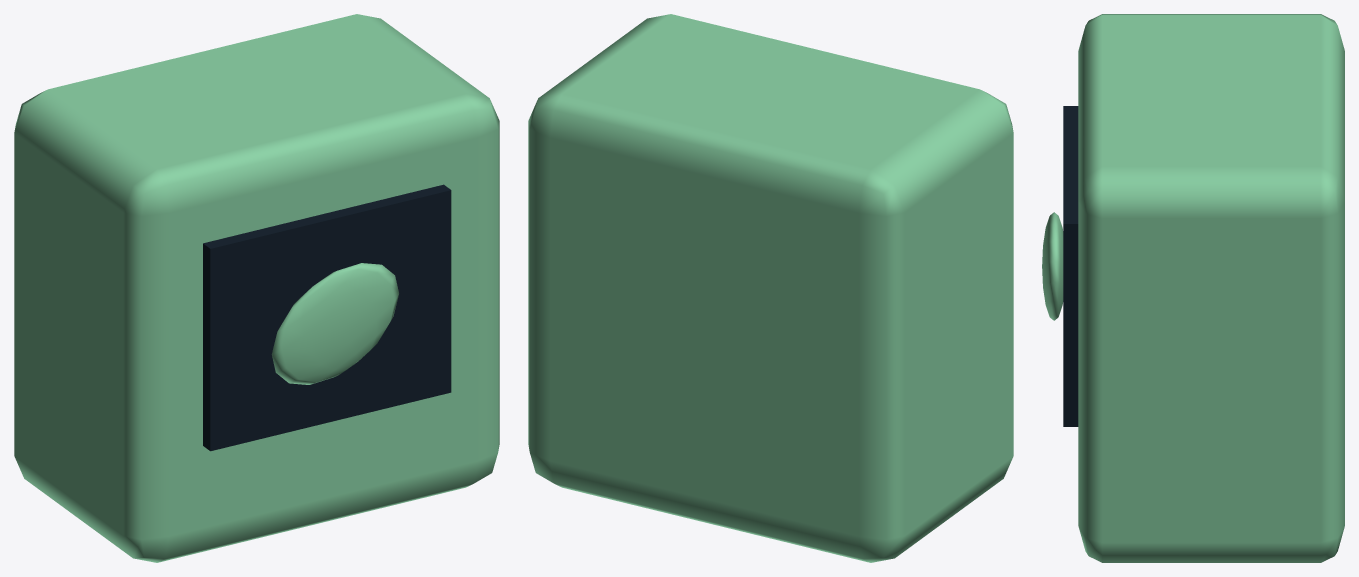
Rendered from item-seeds.glb.
3 views of the same model, side by side, from view 1: azimuth 30°, elevation 25°; view 2: azimuth 150°, elevation 25°; view 3: azimuth 270°, elevation 25° (orthographic).
Visible parts, largest first — view 1: package, label, seed-leaf; view 2: package; view 3: package, label, seed-leaf.
Boxes of the visible parts, x1=… form: package: x1=14, y1=14, x2=499, y2=562; label: x1=203, y1=184, x2=451, y2=451; seed-leaf: x1=271, y1=263, x2=398, y2=384; package: x1=528, y1=14, x2=1013, y2=562; package: x1=1078, y1=14, x2=1344, y2=562; label: x1=1063, y1=106, x2=1078, y2=426; seed-leaf: x1=1042, y1=212, x2=1063, y2=320.
Bounding box in the file's own units: 0.72 × 0.72 × 0.5.
